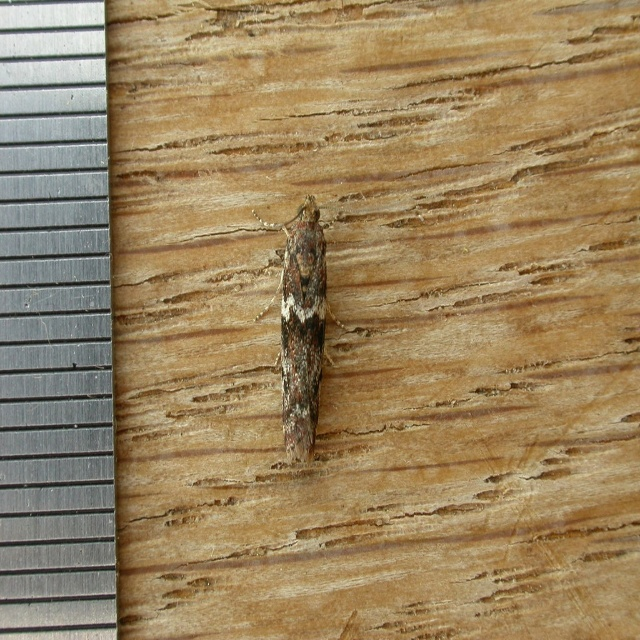Moths and butterflies: (252, 191, 356, 467)
